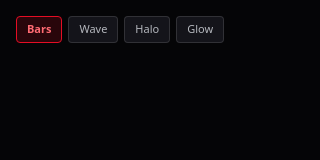
AudioVisualizer component › switches visualizer mode when a mode button is clicked
Click the button with class "audio-vis-mode-btn" showing "Wave". click: coordinates (93, 29)
box: [68,16,118,42]
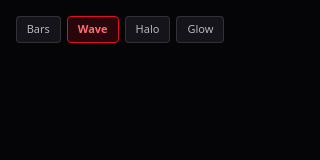
Expected: the button with class "audio-vis-mode-btn" has class "is-active", [67,16,119,42]
